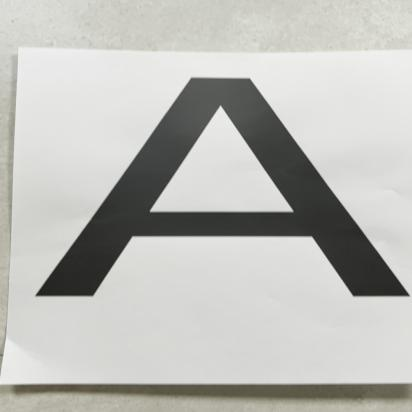seat: (28, 63, 412, 348)
